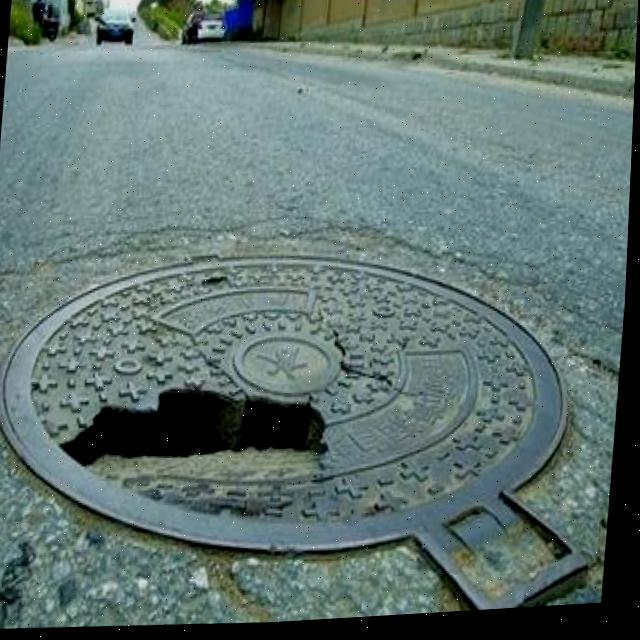manhole: (0, 201, 595, 579)
